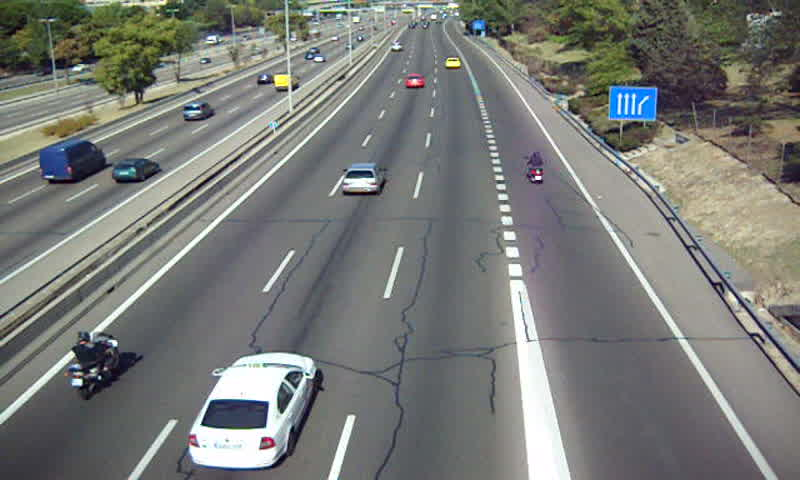car: (189, 353, 316, 468), (339, 162, 386, 193), (405, 73, 423, 91), (445, 58, 462, 68)
motorcycle: (66, 330, 117, 400), (526, 150, 547, 185)
